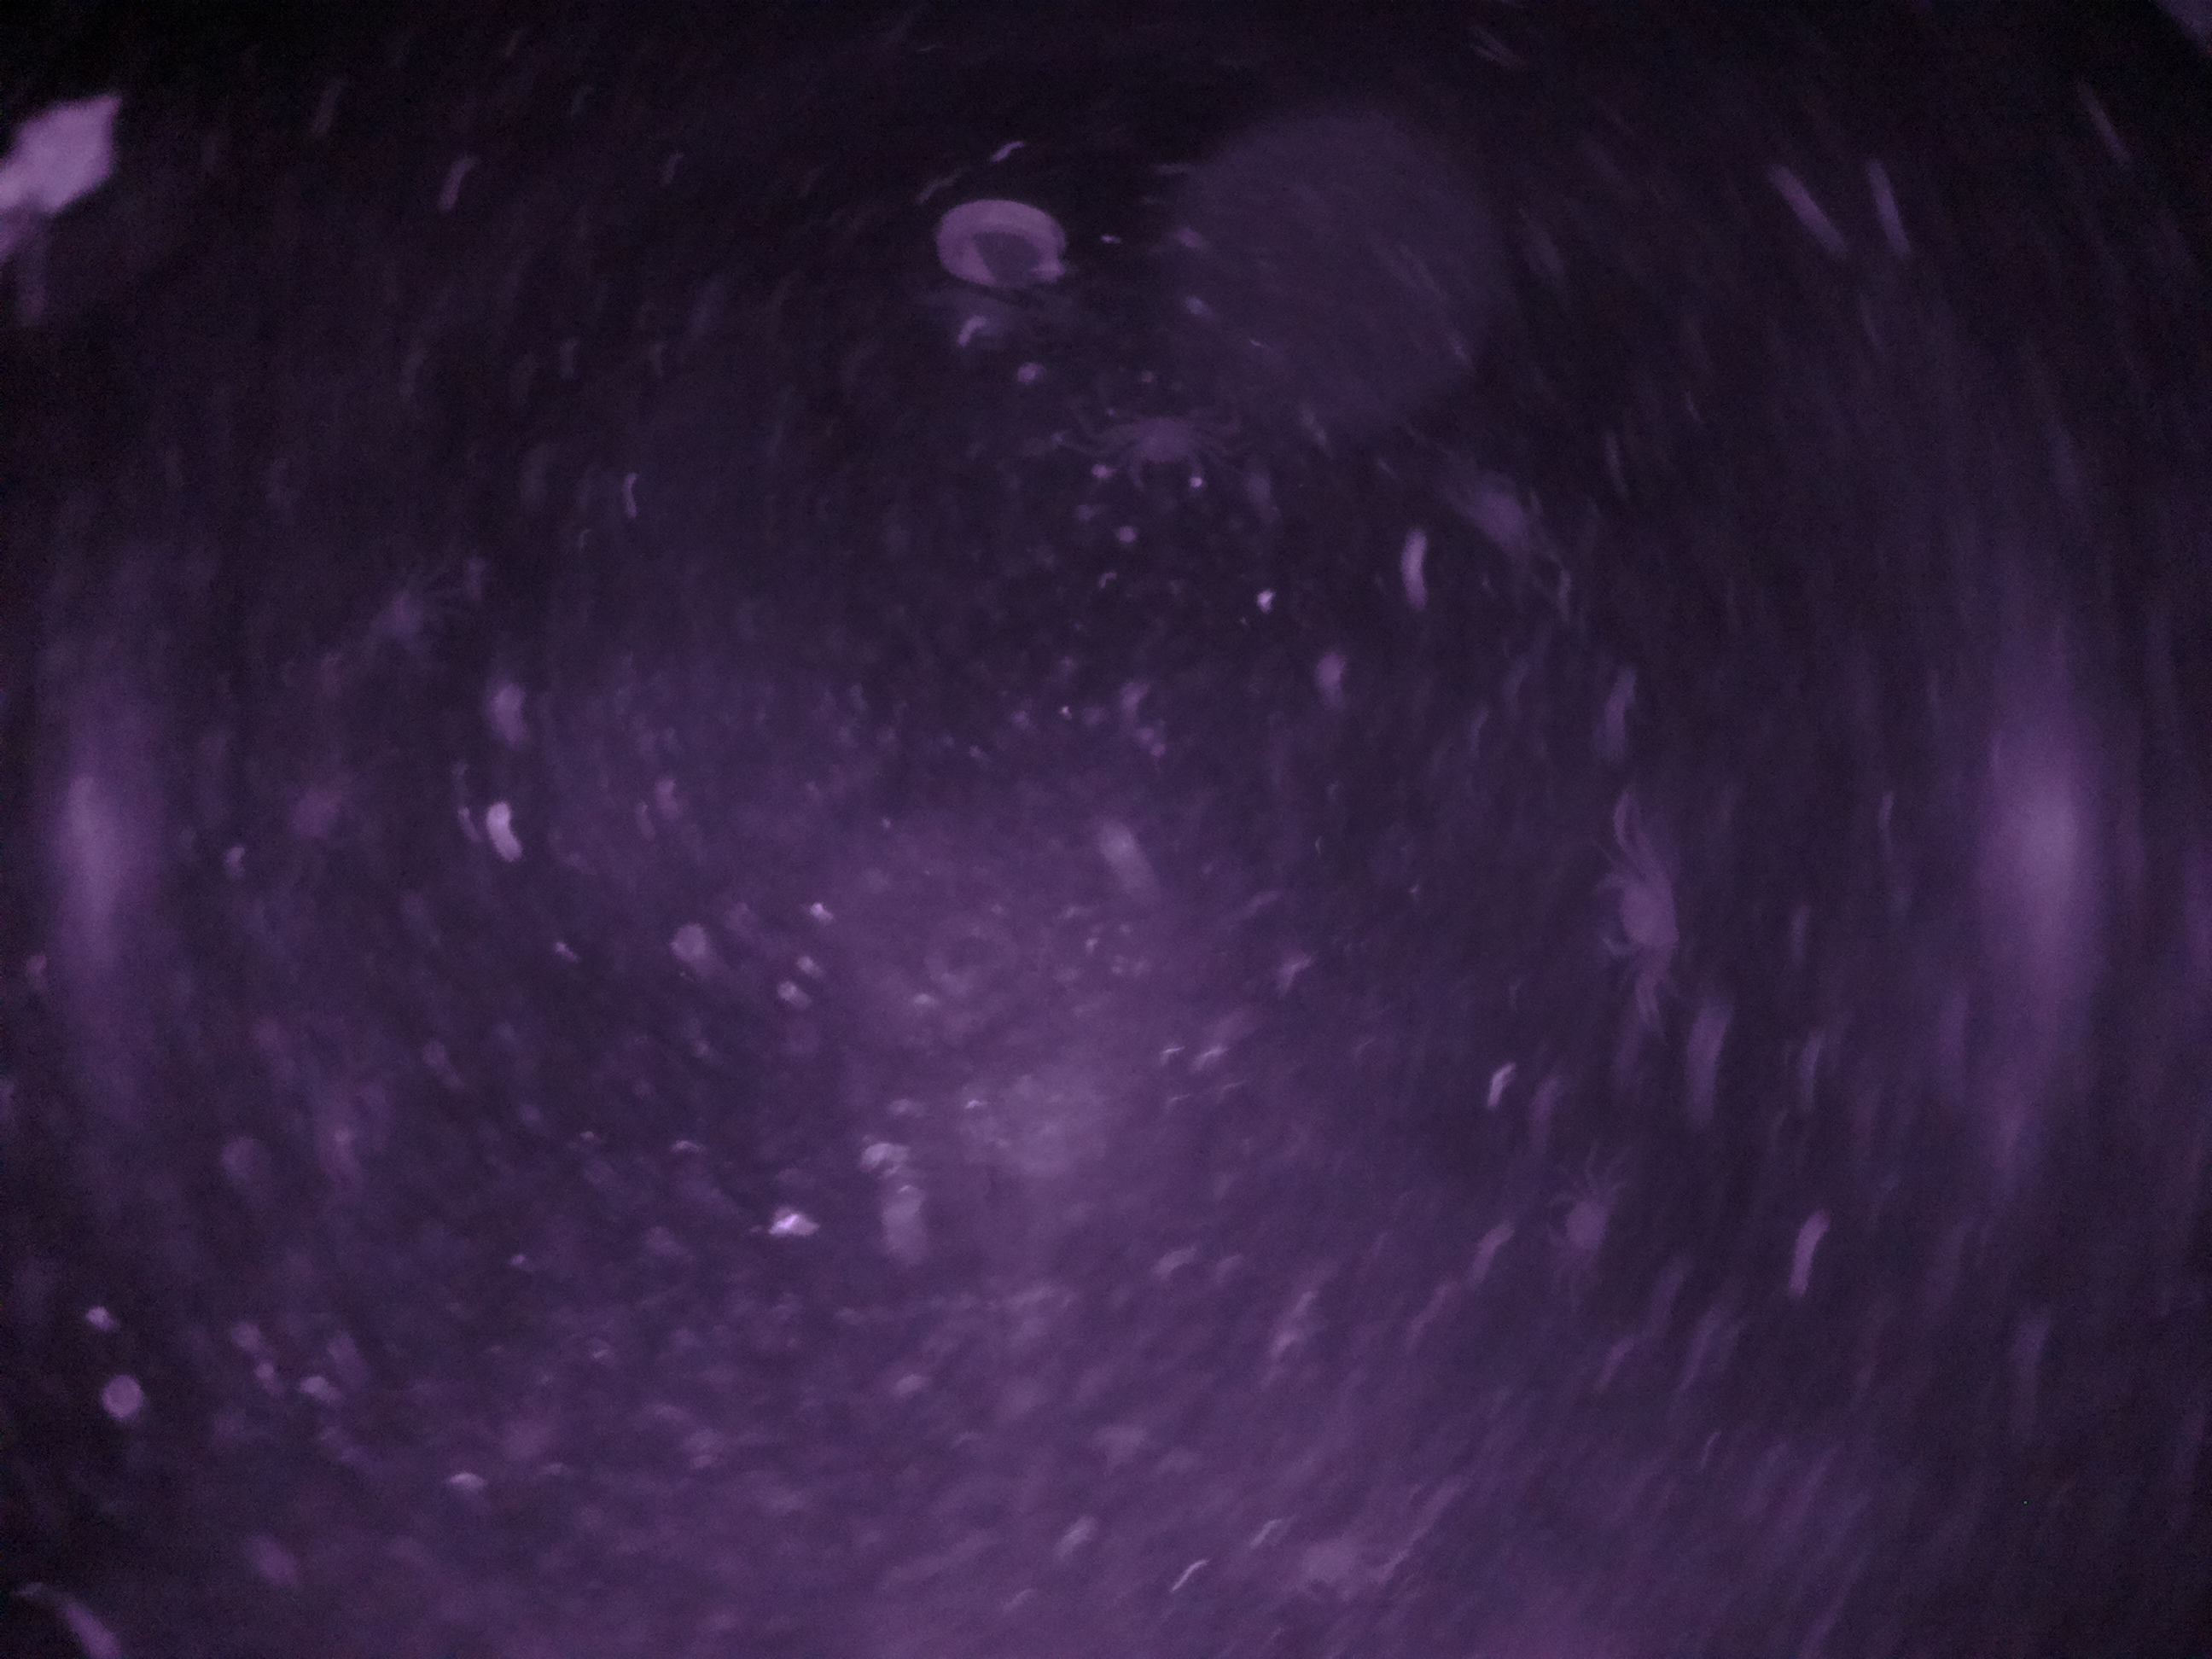Crab: (1575, 842, 1714, 986)
